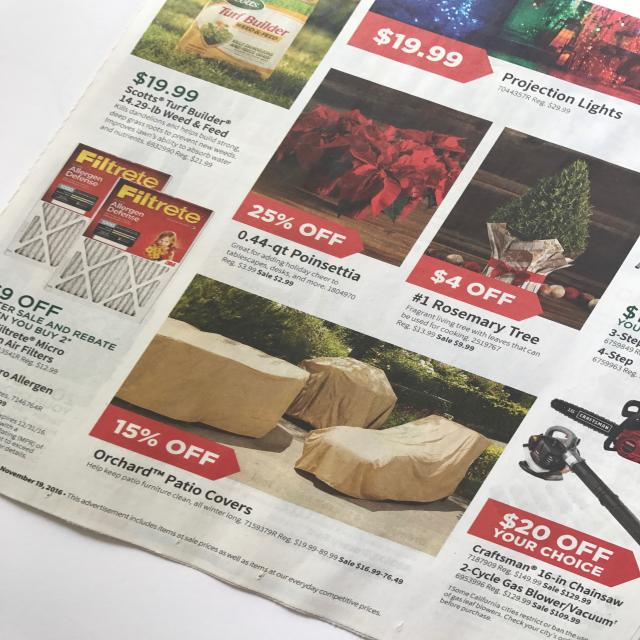paper: (1, 0, 639, 639)
